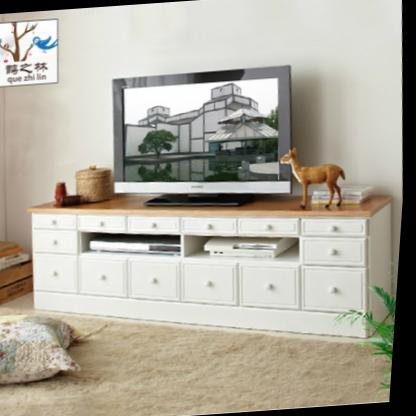TV stand: (31, 180, 396, 345)
